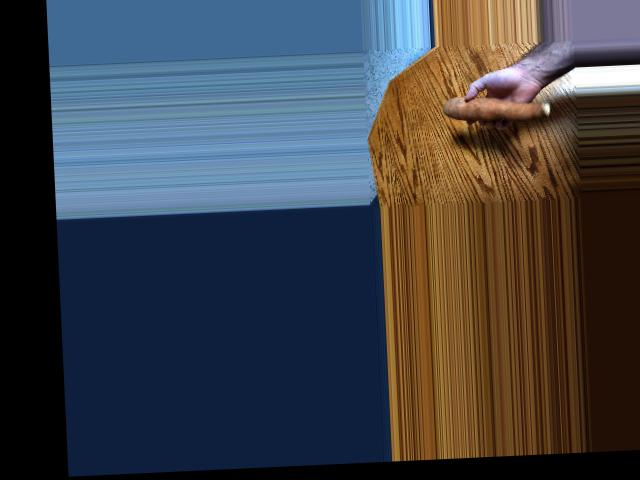sweet_potato: (442, 98, 542, 130)
